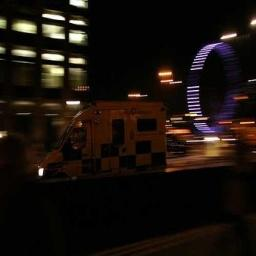ambulance: (38, 101, 165, 177)
